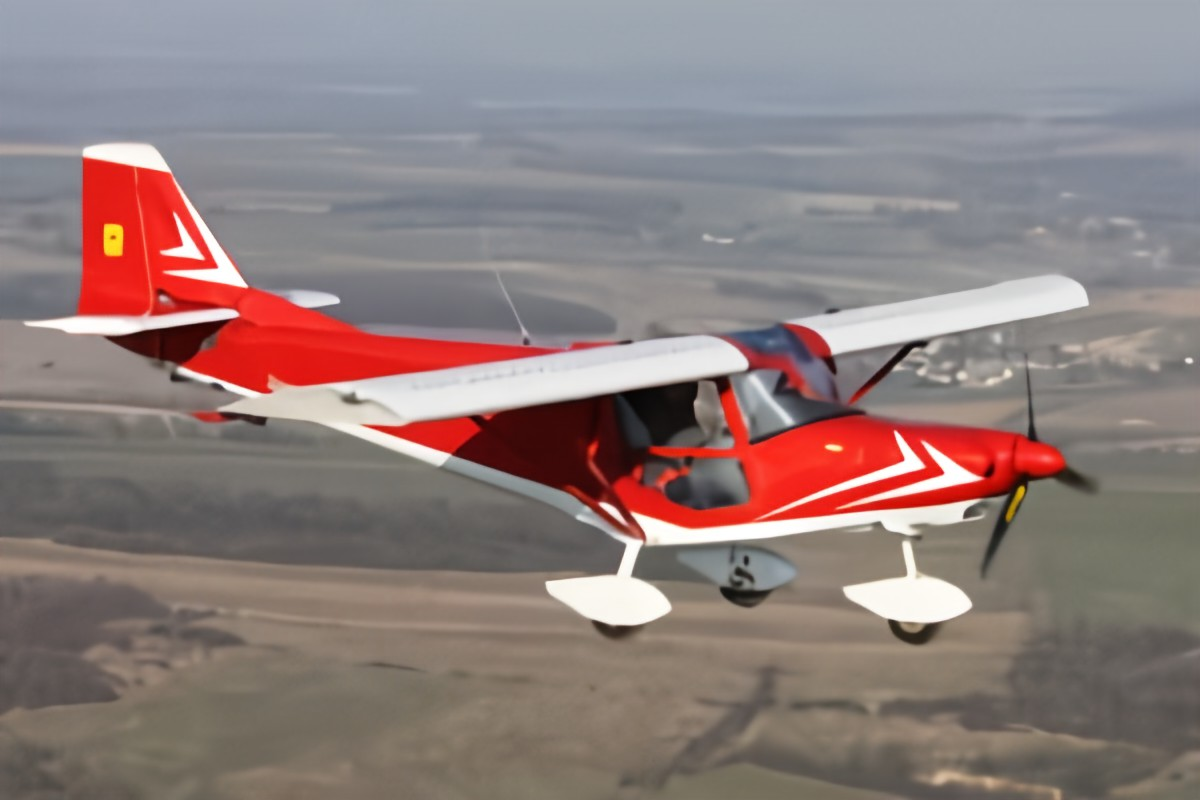Aeronef_de_loisir: (20, 123, 1100, 663)
